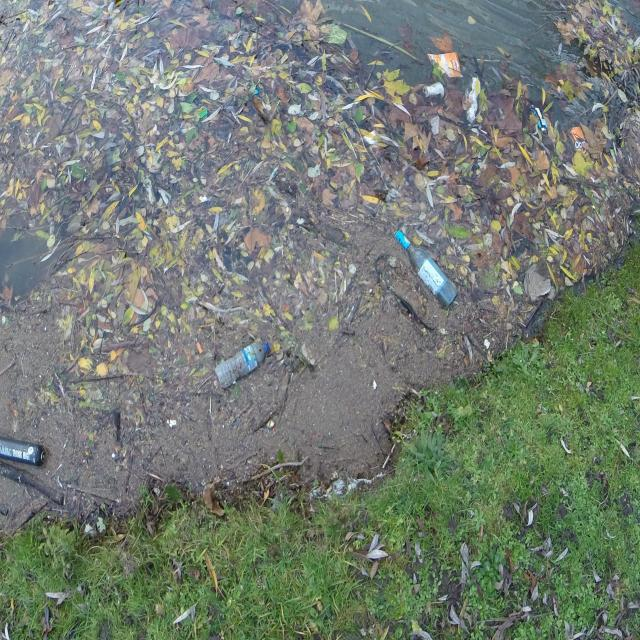less trash: (395, 230, 458, 308), (215, 343, 270, 388)
